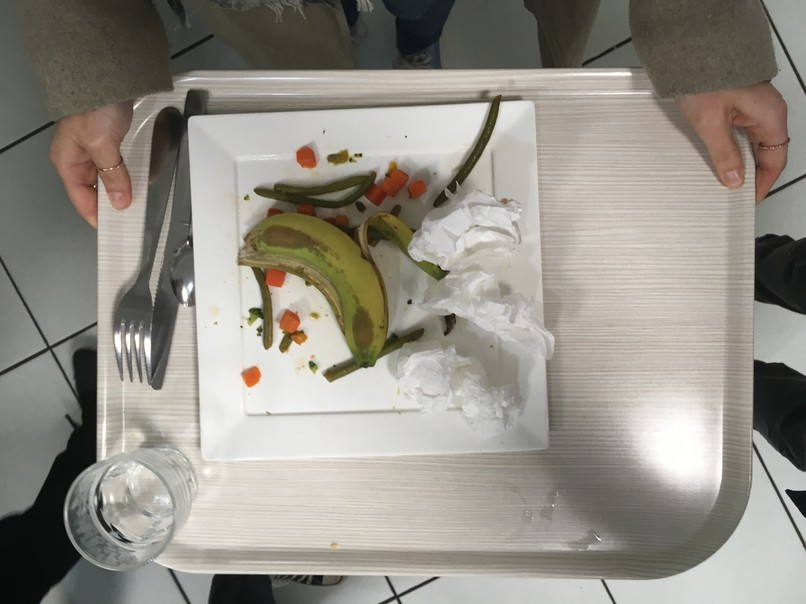orga: (243, 213, 401, 363), (259, 166, 423, 210), (244, 370, 259, 388)
trash: (400, 349, 538, 438), (427, 277, 562, 355), (419, 198, 524, 270)
